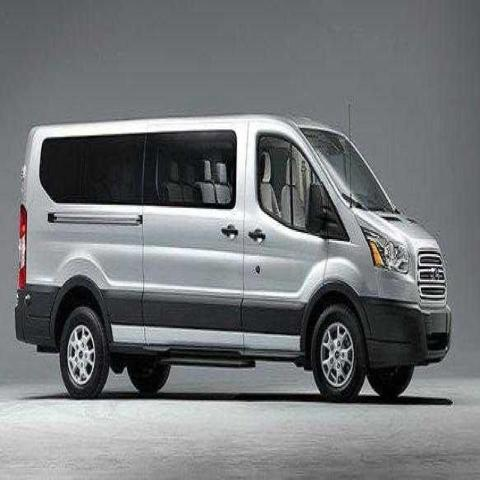van: (15, 110, 453, 404)
